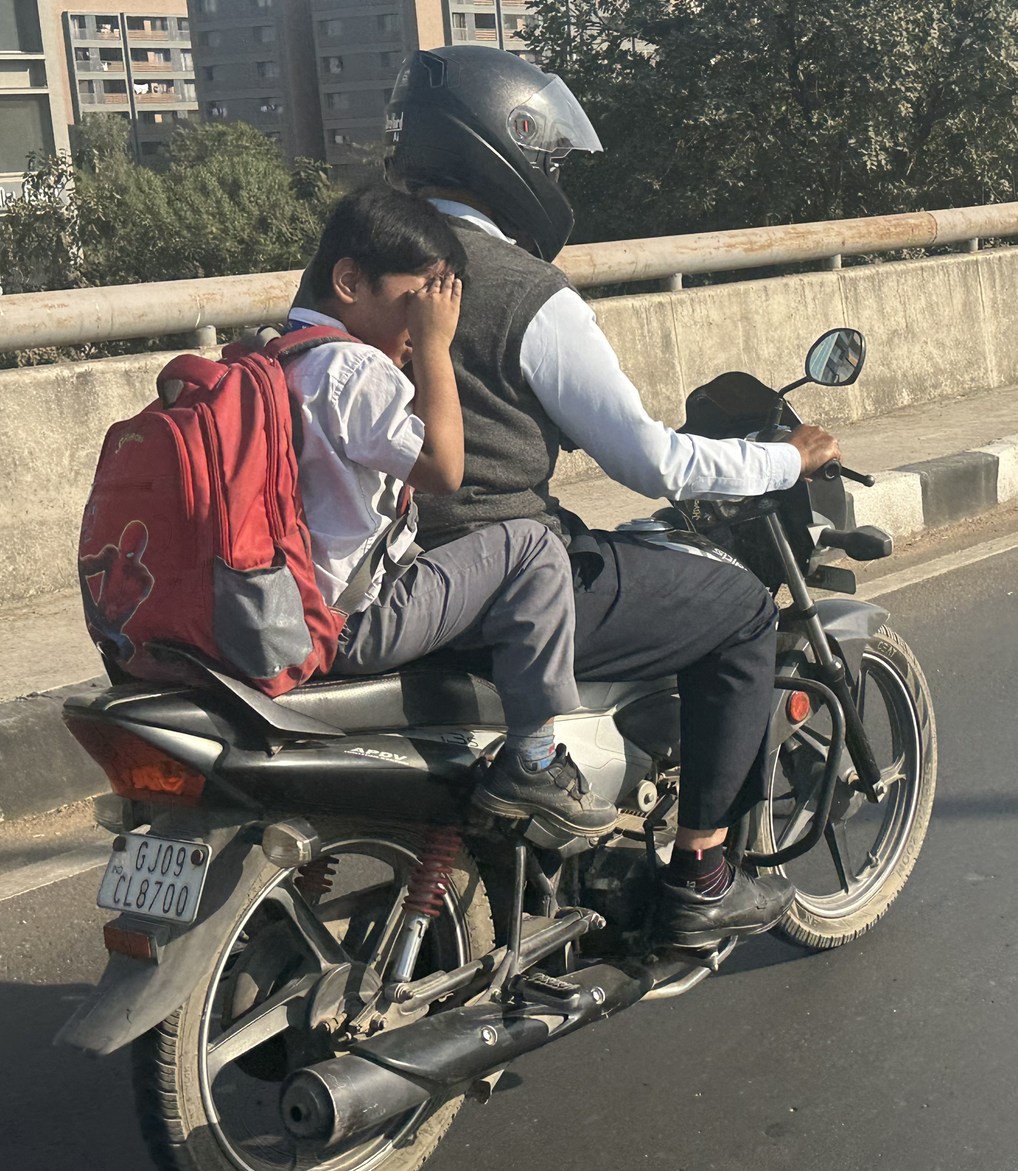BikeWithRider: (54, 33, 970, 1171)
Helmet: (384, 28, 594, 269)
NoHelmet: (302, 178, 465, 379)
